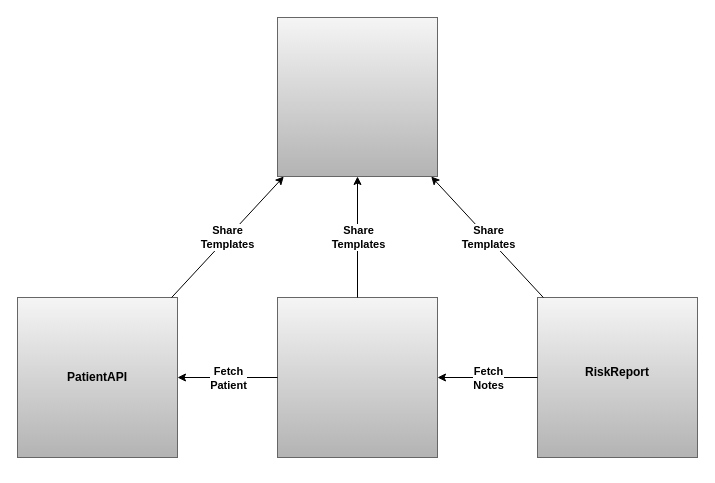
The diagram is 715 pixels wide and 483 high, and some of its shapes have lost their labels. The shapes that lost their labels are listed below. From the top down, each one's centre as x and y in pixels, then its label:
At point (357, 96): "UI".
At point (357, 377): "DocnoteAPI".
